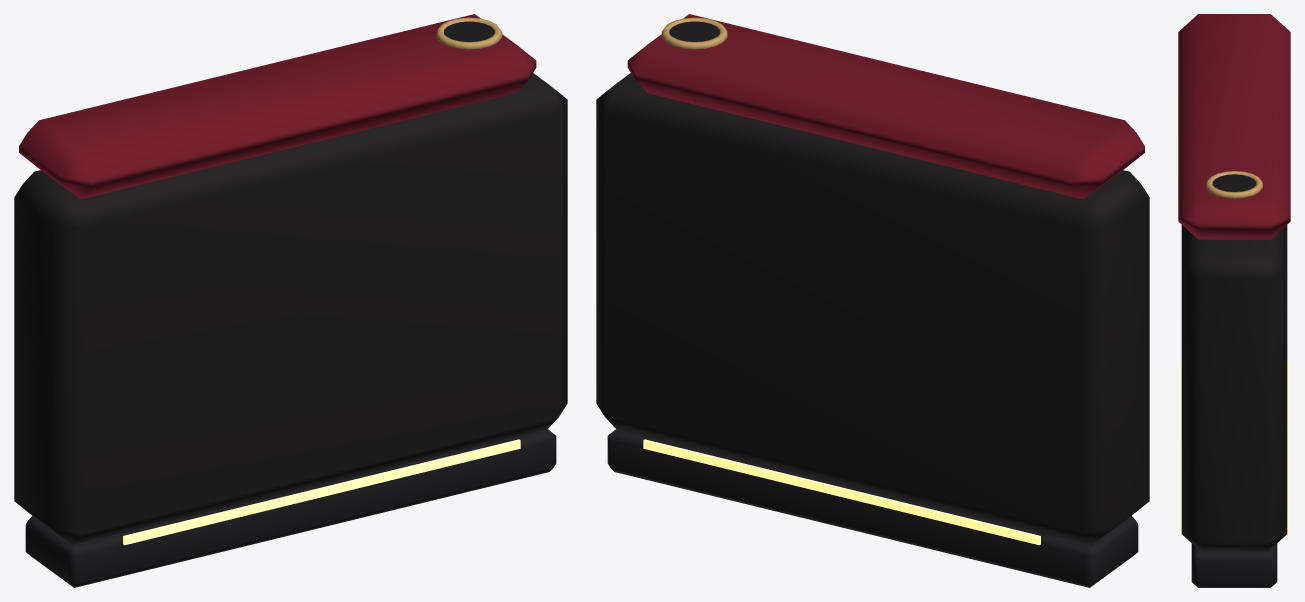
The model's file is console_recliner.glb.
3 renders of one model, left to right at view 1: azimuth 30°, elevation 25°; view 2: azimuth 150°, elevation 25°; view 3: azimuth 270°, elevation 25°, orthographic. The views are drawn at different scales.
Visible parts, largest first — view 1: Mesh_Body, Mesh_Pad, Mesh_Plinth, Mesh_GlowR, Mesh_CupRim, Mesh_CupWell; view 2: Mesh_Body, Mesh_Pad, Mesh_Plinth, Mesh_GlowL, Mesh_CupRim, Mesh_CupWell; view 3: Mesh_Body, Mesh_Pad, Mesh_Plinth, Mesh_CupRim, Mesh_CupWell, Mesh_GlowL, Mesh_GlowR.
Boxes of the visible parts, x1,y1,x2,y2 form: Mesh_Body: [14, 73, 567, 544]; Mesh_Pad: [19, 14, 536, 199]; Mesh_Plinth: [25, 429, 556, 587]; Mesh_GlowR: [123, 439, 520, 545]; Mesh_CupRim: [436, 17, 502, 49]; Mesh_CupWell: [444, 21, 494, 41]; Mesh_Body: [596, 73, 1149, 544]; Mesh_Pad: [627, 14, 1144, 199]; Mesh_Plinth: [607, 429, 1138, 587]; Mesh_GlowL: [643, 439, 1040, 545]; Mesh_CupRim: [661, 17, 727, 49]; Mesh_CupWell: [669, 21, 719, 41]; Mesh_Body: [1181, 225, 1287, 551]; Mesh_Pad: [1178, 14, 1290, 239]; Mesh_Plinth: [1191, 543, 1277, 587]; Mesh_CupRim: [1206, 171, 1262, 199]; Mesh_CupWell: [1212, 174, 1256, 191]; Mesh_GlowL: [1286, 361, 1289, 535]; Mesh_GlowR: [1179, 361, 1182, 535].
Bounding box in the file's own units: 0.78 × 0.6372 × 0.17.
